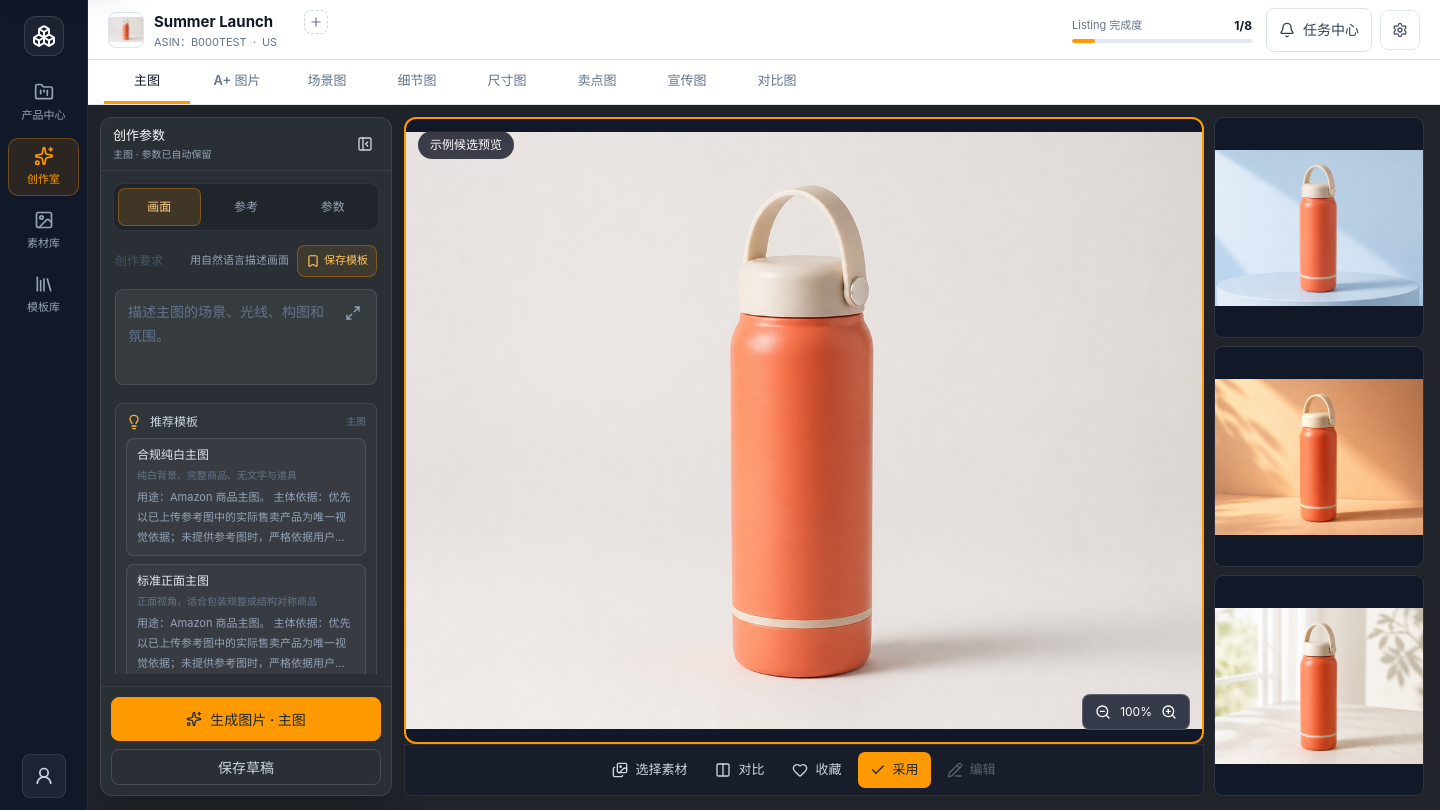
Test case: backend history asset source › ignores stale history responses from the previous project after a project switch
Select "Winter Launch" in the dropdown named "当前产品": (226, 22) [154, 12, 298, 32]
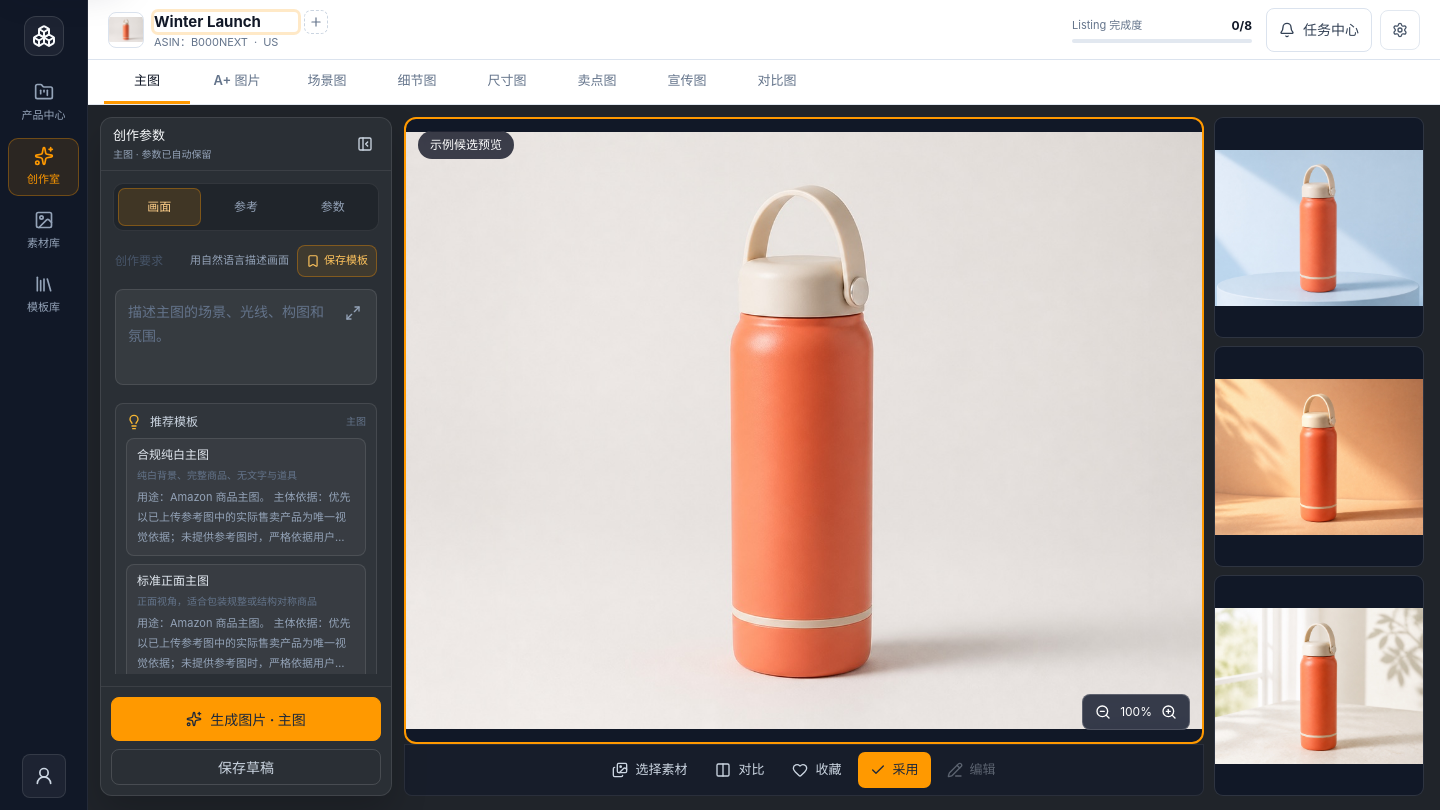
Click the button "任务中心": (1319, 30) [1266, 8, 1372, 52]
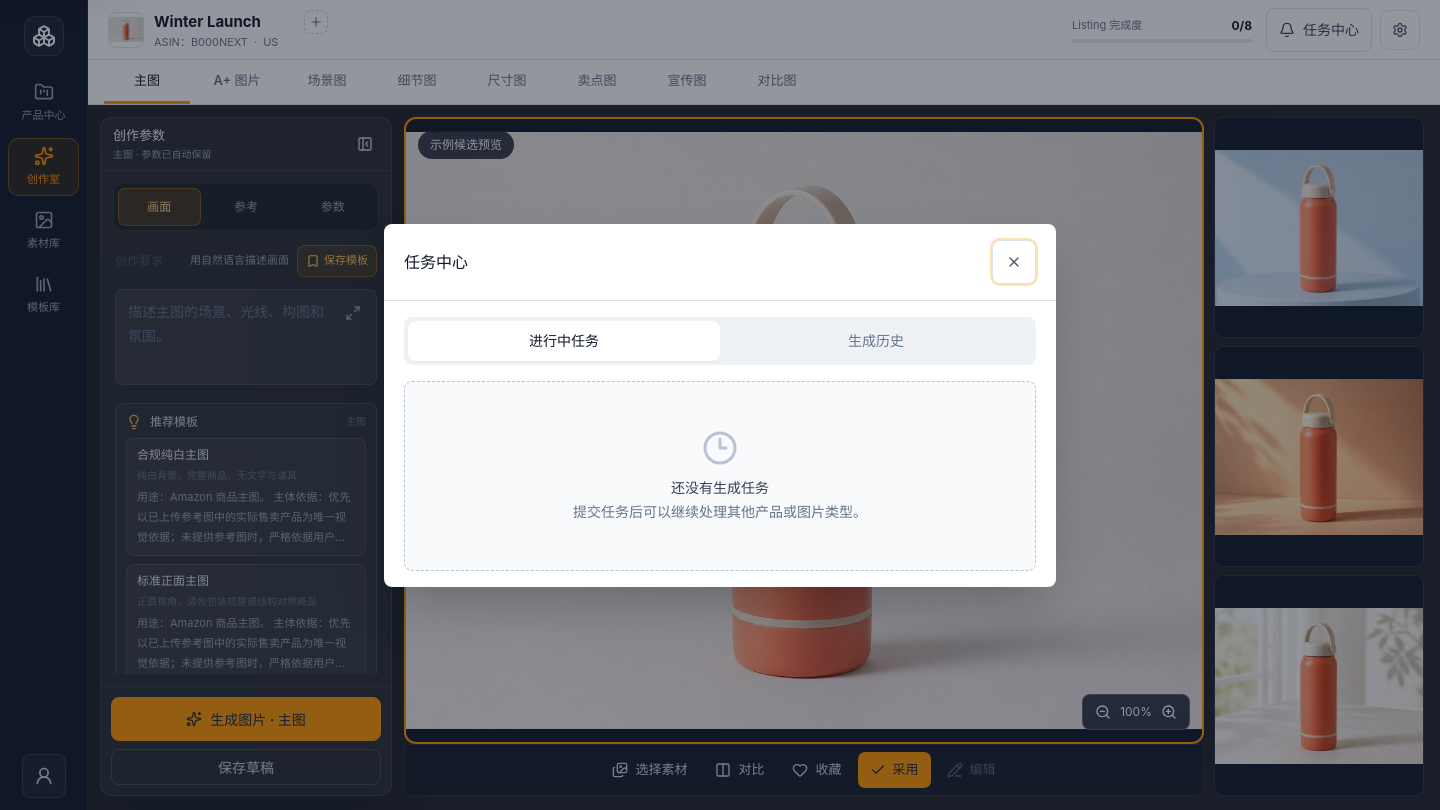
Click the tab "生成历史": (876, 340) [720, 320, 1032, 360]
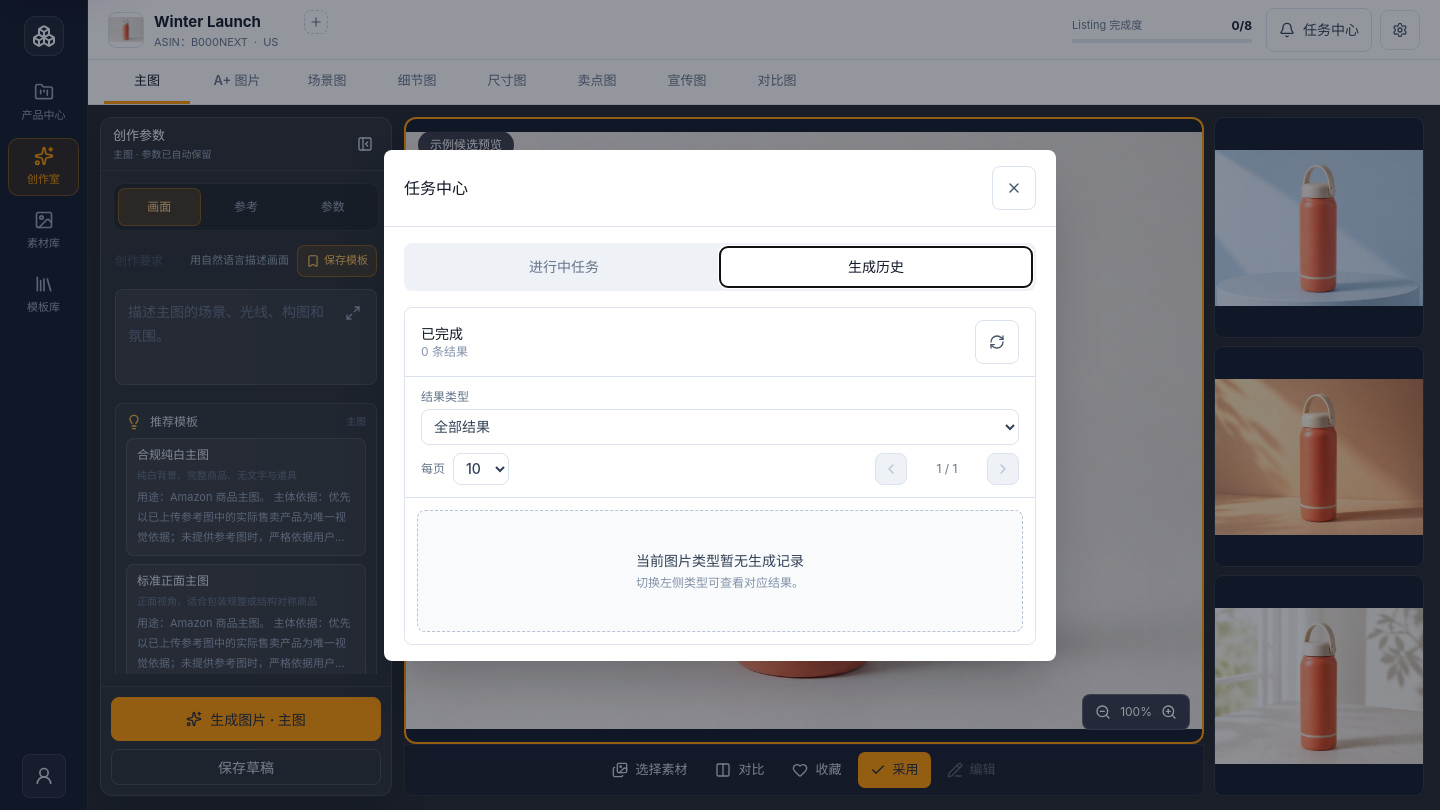
Now the element named "图片生成历史" is shown, box [404, 306, 1036, 644]
Now the text "当前图片类型暂无生成记录" is shown, box [636, 552, 804, 568]
